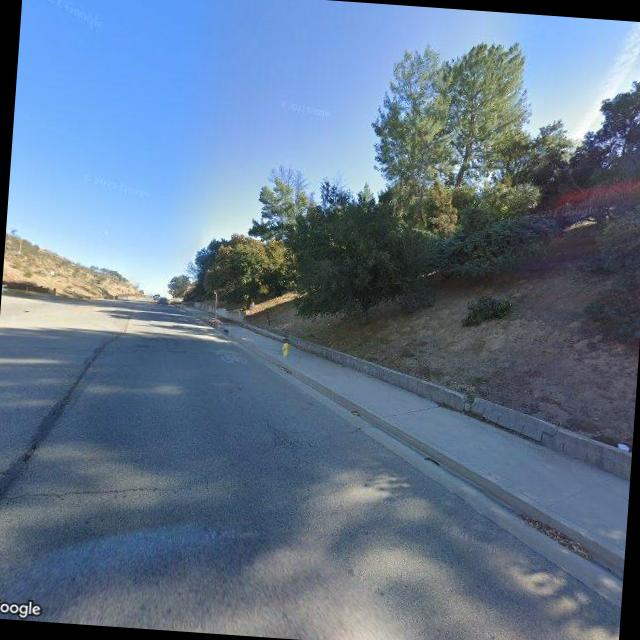crack: (0, 469, 181, 514)
